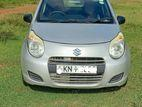car: (20, 2, 129, 90)
